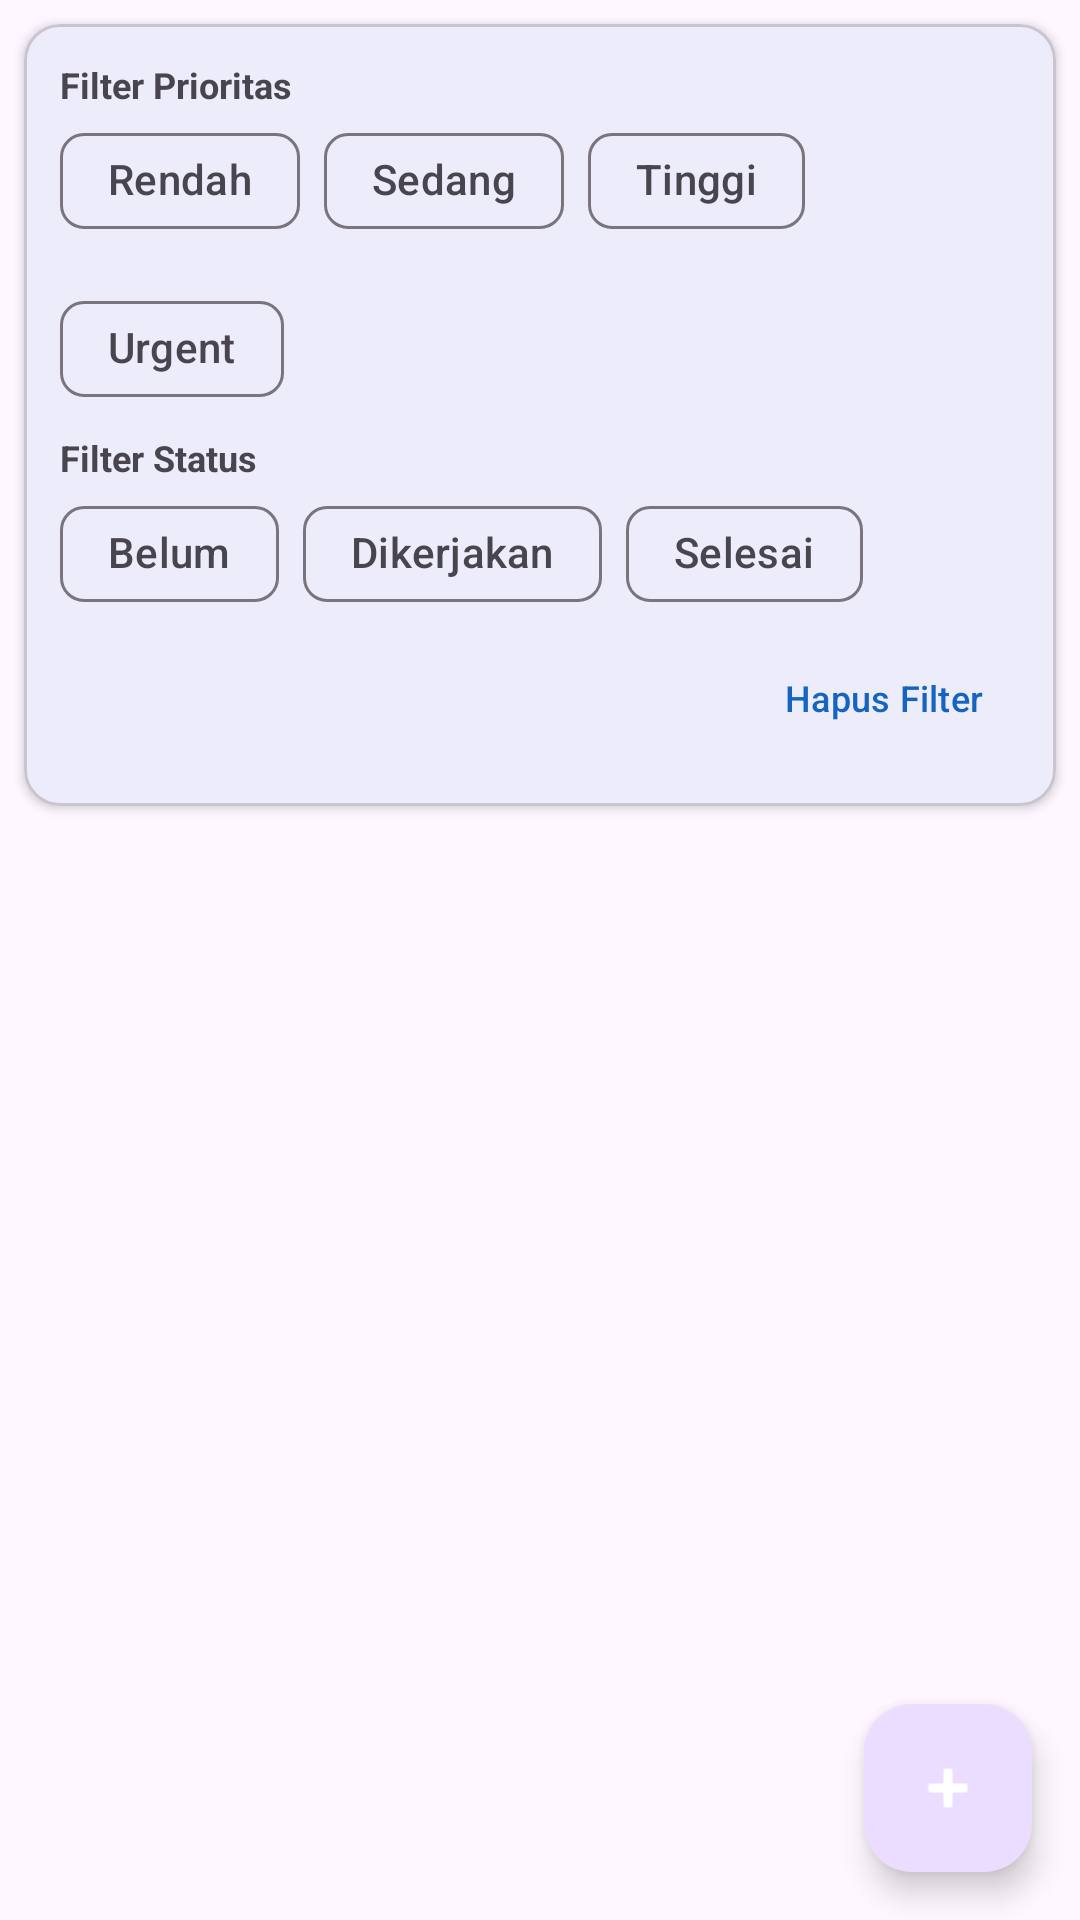

Icons on this 1080px x 1920px Android screen, each with the point to tap as [x,y]:
Tambah Tugas: [948,1788]
